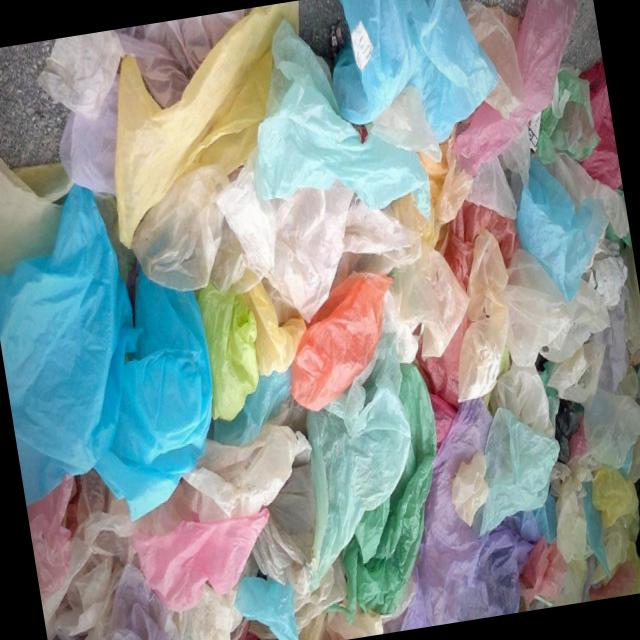plastic_bag: (0, 0, 640, 640), (180, 47, 398, 307)
